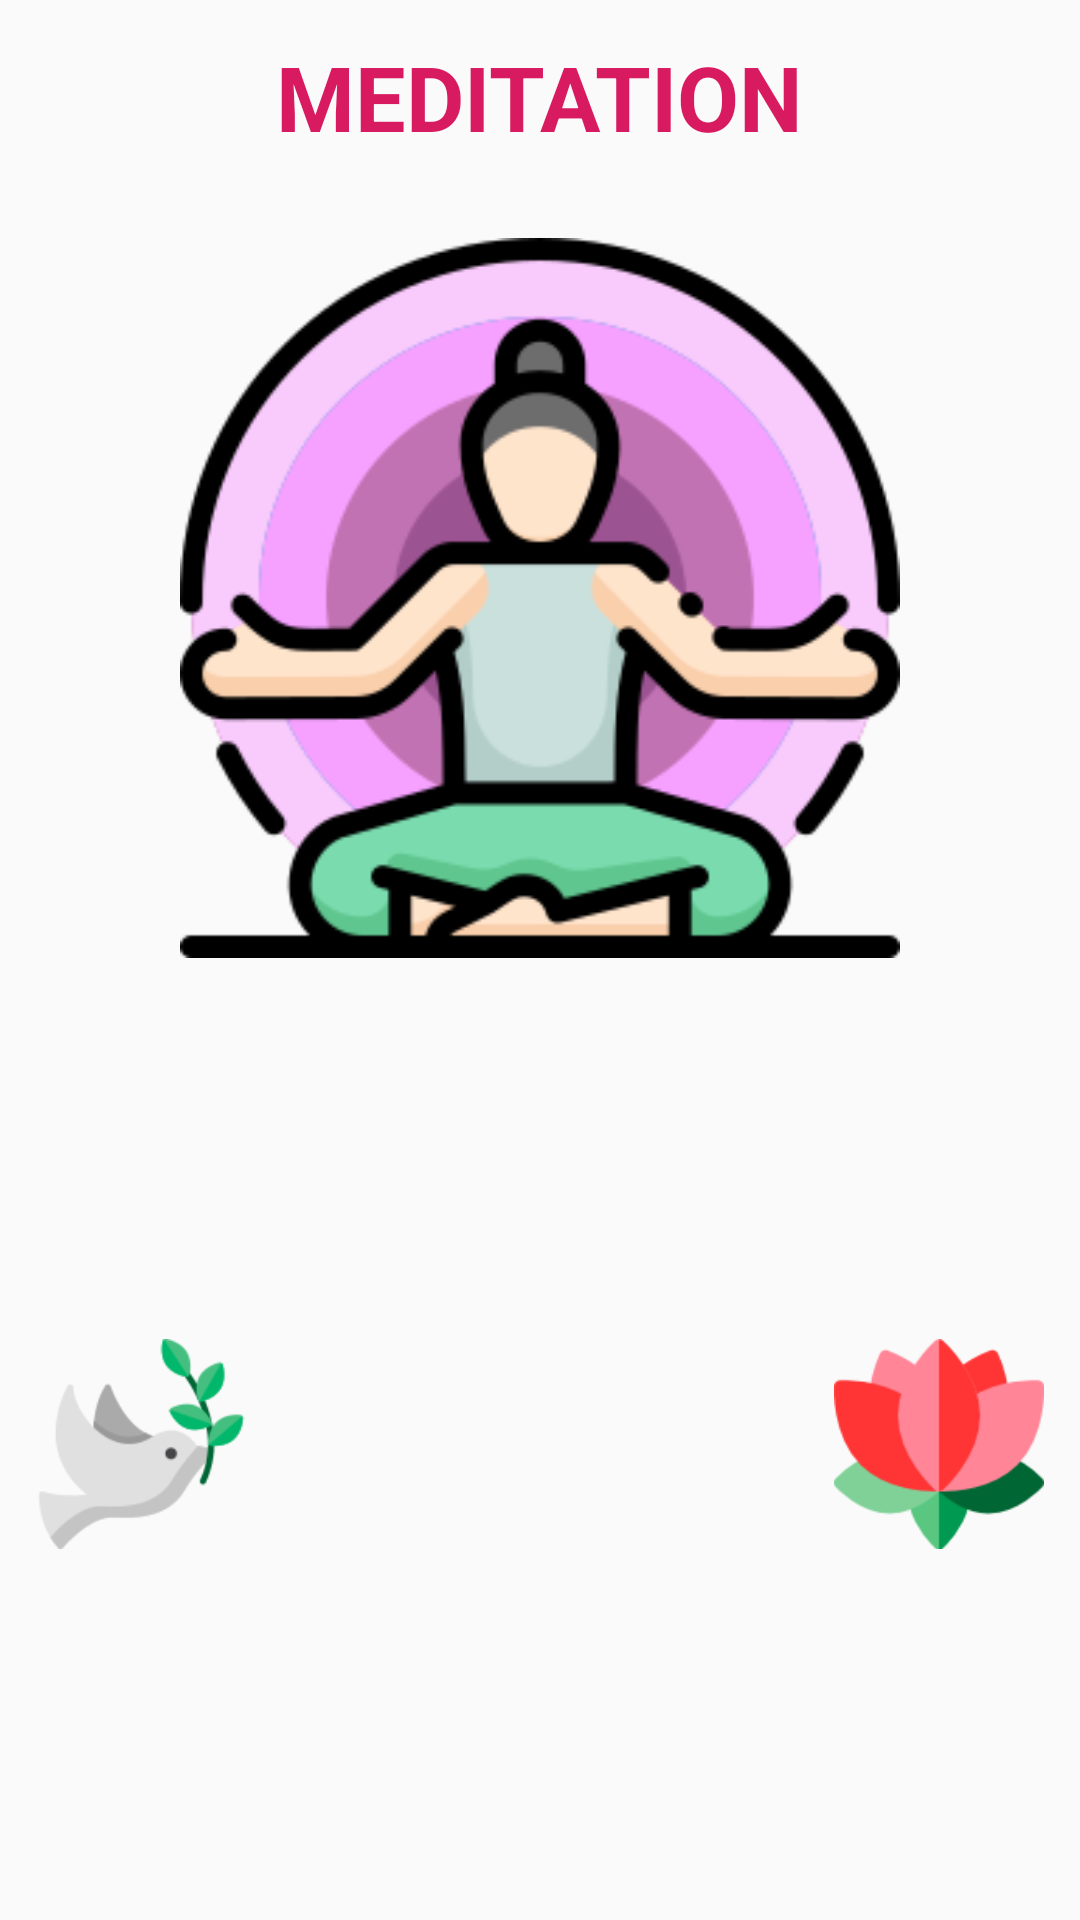

Named icons in this screenshot (1080px×1920px) and their centers, (x,y):
bird: (142,1444)
flower: (939,1444)
